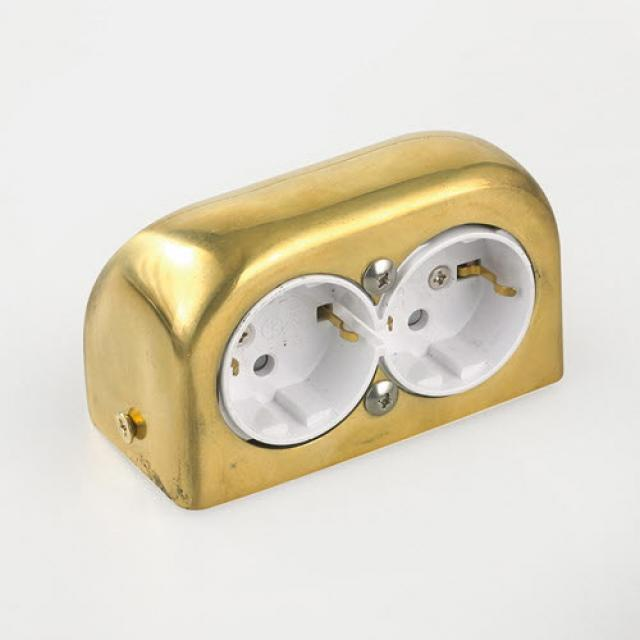typeb: (66, 157, 577, 555)
